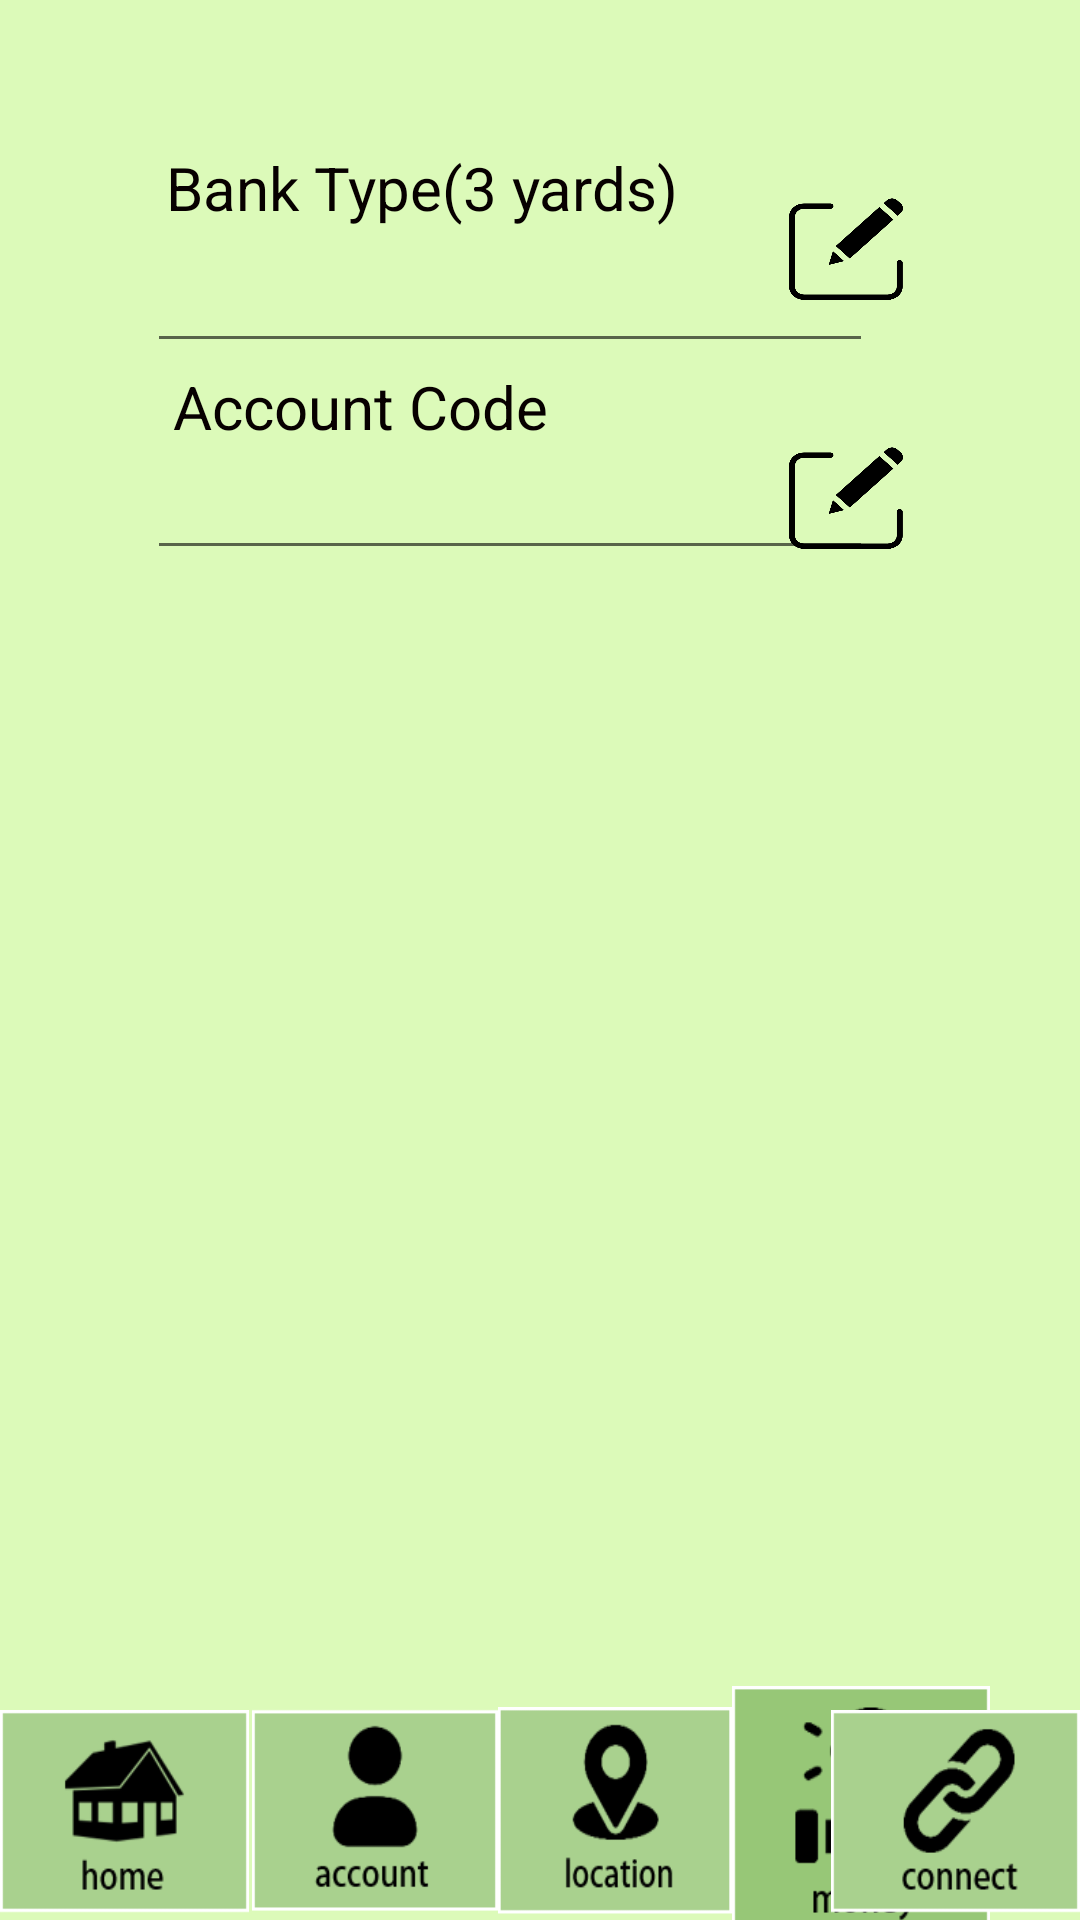

Icons on this 1080w x 1920h Android screen, each with the point to tap as (x,y):
editbtn: (846,249), (846,498)
